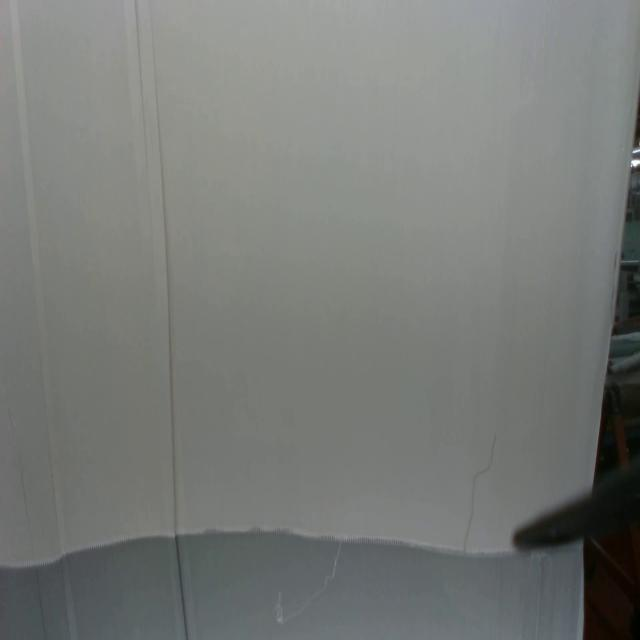crease: (11, 0, 78, 640), (150, 9, 189, 640), (20, 465, 46, 638), (134, 0, 149, 175)
